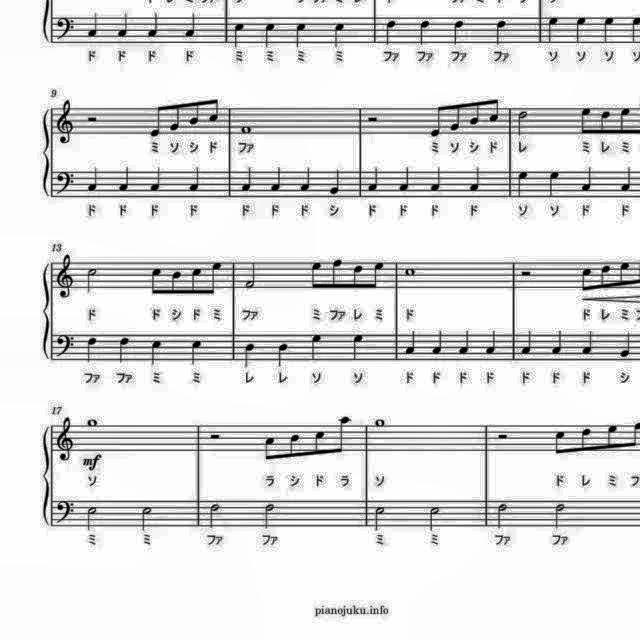Bass-clef: (54, 167, 78, 197), (54, 13, 78, 43), (54, 332, 78, 361), (54, 498, 78, 526)
Eighth-note: (334, 412, 354, 456), (262, 430, 282, 466), (147, 102, 165, 142), (207, 258, 225, 298), (426, 102, 444, 142), (146, 263, 164, 301), (186, 264, 204, 300), (329, 255, 346, 293), (311, 428, 329, 460), (575, 424, 593, 456), (285, 430, 303, 462), (602, 420, 620, 452), (306, 258, 322, 294), (578, 102, 594, 138), (551, 428, 569, 459), (448, 99, 464, 133), (168, 99, 184, 133), (186, 94, 202, 128), (368, 259, 384, 293), (466, 95, 482, 128), (618, 258, 634, 290), (206, 93, 222, 125), (618, 106, 634, 138), (350, 262, 366, 294), (580, 262, 596, 294), (486, 94, 502, 125), (596, 107, 612, 137), (597, 262, 613, 292), (170, 268, 184, 298)
Full-note: (370, 412, 390, 432), (85, 414, 104, 431), (237, 122, 255, 138), (403, 265, 419, 279)
Half-note: (82, 263, 100, 297), (241, 258, 259, 292), (493, 501, 511, 532), (205, 501, 223, 532), (551, 501, 569, 532), (425, 501, 443, 532), (137, 501, 155, 532), (372, 503, 390, 533), (261, 502, 279, 532), (515, 108, 531, 140), (86, 503, 102, 533)
Half-rest: (85, 110, 103, 126), (206, 428, 224, 442), (494, 428, 511, 442), (518, 266, 534, 280), (364, 112, 380, 125)
Quarter-note: (514, 166, 532, 198), (349, 331, 367, 363), (328, 166, 346, 197), (231, 19, 249, 49), (261, 19, 279, 49), (144, 11, 162, 41), (618, 331, 636, 361), (381, 17, 399, 47), (238, 163, 256, 193), (268, 164, 286, 194), (181, 11, 199, 41), (241, 339, 259, 368), (416, 16, 432, 48), (600, 14, 616, 46), (84, 334, 100, 366), (572, 14, 588, 46), (546, 14, 562, 46), (449, 17, 466, 47), (188, 337, 205, 367), (185, 164, 202, 194), (404, 329, 421, 359), (274, 340, 292, 368), (308, 332, 324, 363), (364, 164, 381, 193), (84, 11, 100, 41), (492, 17, 508, 47), (148, 163, 164, 193), (292, 21, 308, 51), (470, 163, 486, 193), (148, 337, 164, 367), (118, 335, 134, 365), (519, 328, 535, 358), (580, 163, 596, 193), (620, 164, 636, 194), (118, 10, 134, 40), (456, 328, 472, 358), (86, 164, 102, 194), (398, 162, 414, 192), (546, 168, 562, 198), (296, 163, 312, 193), (115, 164, 131, 194), (550, 328, 566, 358), (484, 329, 500, 359), (580, 328, 596, 357), (332, 20, 348, 48), (427, 164, 443, 192), (430, 328, 444, 358), (628, 14, 640, 46)
Treble-clef: (56, 97, 80, 147), (55, 252, 79, 302), (55, 413, 79, 463)
